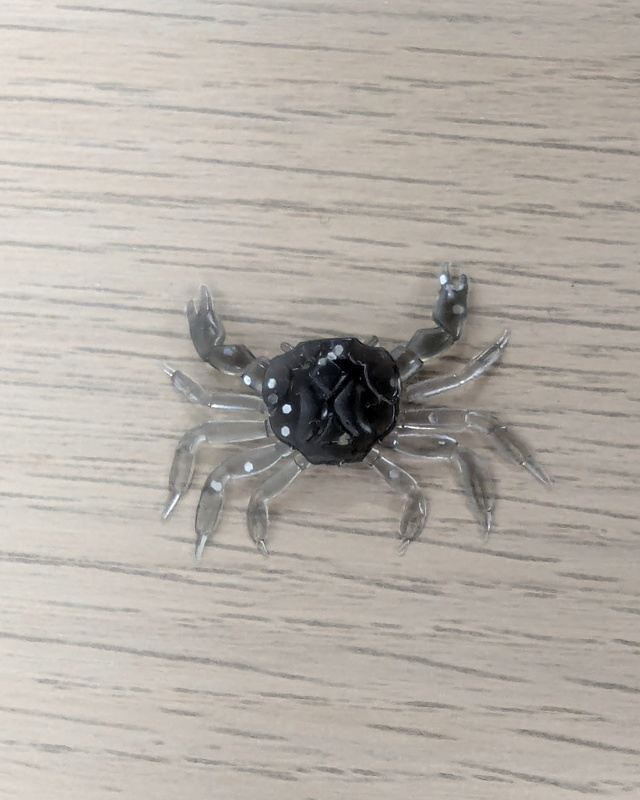crab1: (157, 256, 560, 561)
